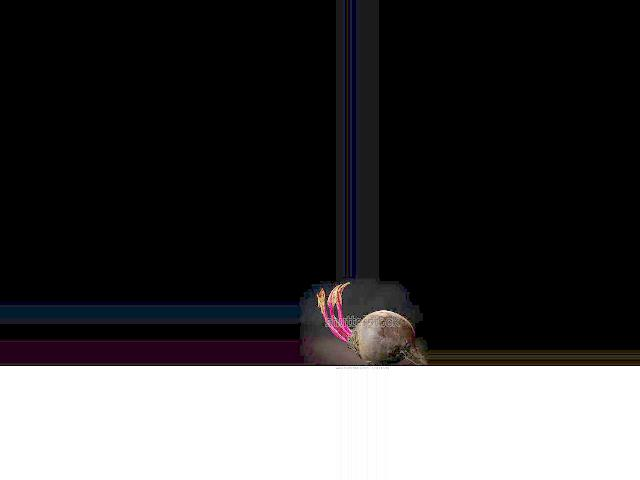beet: (317, 282, 429, 365)
